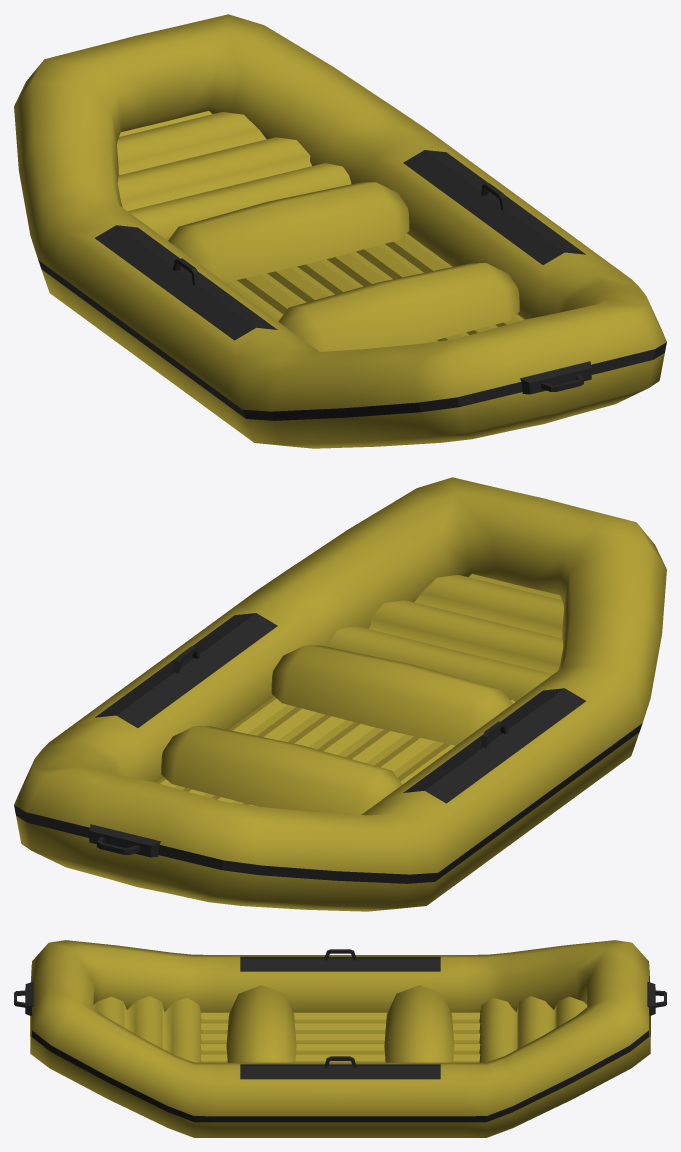
File: raft.glb
3 views of the same model, one above another, from view 1: azimuth 30°, elevation 25°; view 2: azimuth 150°, elevation 25°; view 3: azimuth 270°, elevation 25° (orthographic). The views are drawn at different scales.
Parts seen in each view (by area): view 1: Raft; view 2: Raft; view 3: Raft.
Part boxes in pixels (x1,y1,x2,y2): Raft: (14,14,666,448); Raft: (14,477,666,911); Raft: (14,940,666,1137).
Size of the model in its own units: 1.68 by 0.605 by 3.33.
Materials: 1 (1 with a texture image).
